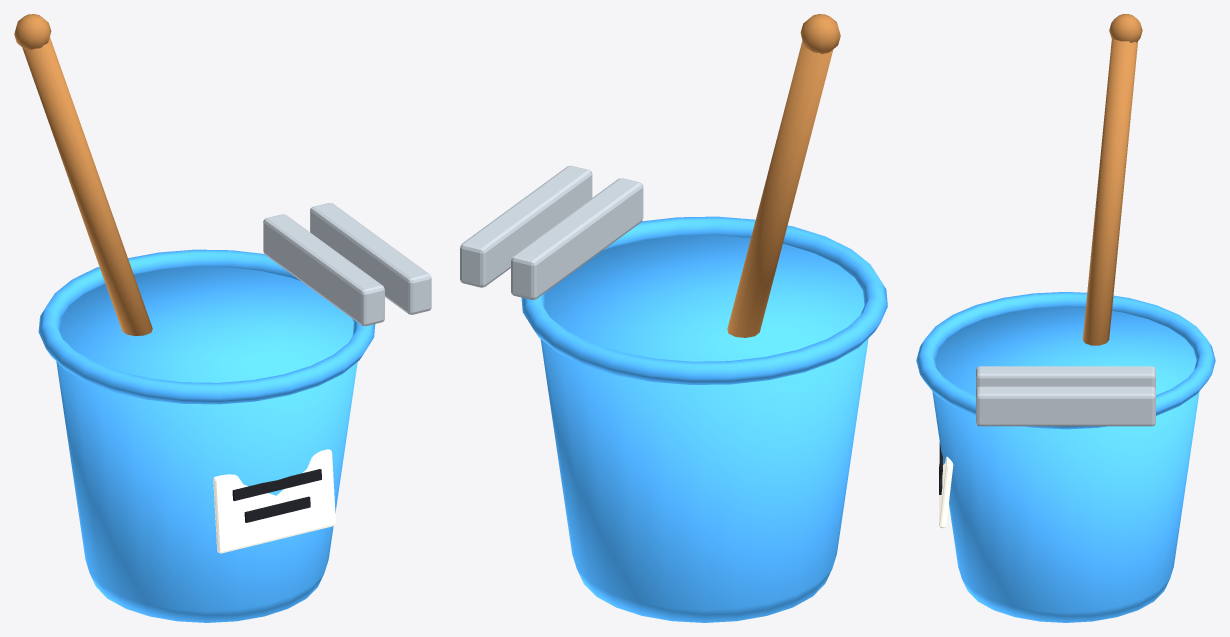
Rendered from cubo.glb.
3 views of the same model, side by side, from view 1: azimuth 30°, elevation 25°; view 2: azimuth 150°, elevation 25°; view 3: azimuth 270°, elevation 25° (orthographic). The views are drawn at different scales.
Visible parts, largest first — view 1: cubo_cubo, cubo_borde, cubo_palo, cubo_cartel, cubo_escurridor_1, cubo_escurridor_2, cubo_cartel_1, cubo_mango, cubo_cartel_2; view 2: cubo_cubo, cubo_borde, cubo_palo, cubo_escurridor_1, cubo_escurridor_2, cubo_mango; view 3: cubo_cubo, cubo_palo, cubo_borde, cubo_escurridor_2, cubo_escurridor_1, cubo_mango, cubo_cartel.
Boxes of the visible parts, box(x1,y1,x2,y2) form: cubo_cubo: box(56, 266, 357, 622); cubo_borde: box(38, 249, 375, 404); cubo_palo: box(22, 37, 152, 336); cubo_cartel: box(213, 449, 335, 553); cubo_escurridor_1: box(263, 214, 384, 326); cubo_escurridor_2: box(310, 203, 431, 314); cubo_cartel_1: box(232, 469, 321, 500); cubo_mango: box(14, 14, 51, 49); cubo_cartel_2: box(244, 496, 310, 522); cubo_cubo: box(540, 235, 868, 622); cubo_borde: box(521, 216, 887, 384); cubo_palo: box(727, 40, 832, 337); cubo_escurridor_1: box(511, 178, 643, 299); cubo_escurridor_2: box(460, 165, 592, 287); cubo_mango: box(800, 14, 840, 54); cubo_cubo: box(932, 307, 1199, 622); cubo_palo: box(1082, 39, 1137, 345); cubo_borde: box(916, 292, 1215, 429); cubo_escurridor_2: box(976, 386, 1155, 426); cubo_escurridor_1: box(976, 366, 1155, 389); cubo_mango: box(1109, 14, 1142, 42); cubo_cartel: box(939, 456, 953, 528).
Size of the model in its own units: 0.2833 by 0.464 by 0.25.
